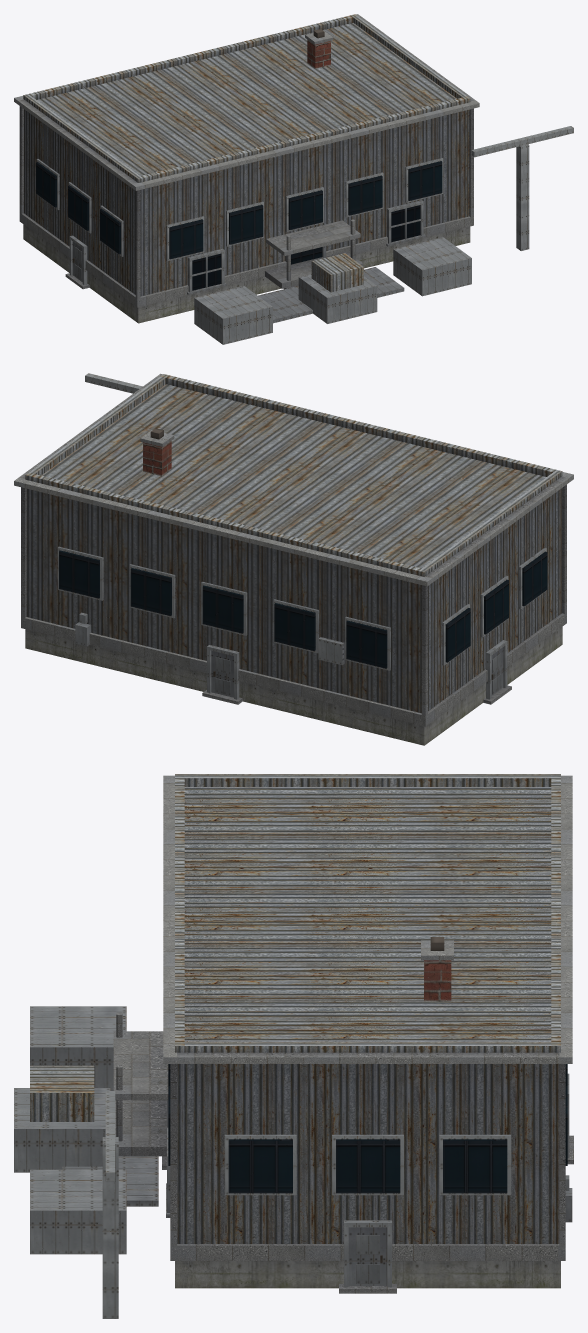
File: ironworks-salvage-office_lod0.gltf
3 views of the same model, one above another, from view 1: azimuth 30°, elevation 25°; view 2: azimuth 150°, elevation 25°; view 3: azimuth 270°, elevation 25° (orthographic). The views are drawn at different scales.
Visible parts, largest first — view 1: ironworks-salvage-office_upper, ironworks-salvage-office__v4_stone_detail, ironworks-salvage-office_fen_07-glass-curtain-blue_1_t, ironworks-salvage-office_fen_14-steel-panel_0, ironworks-salvage-office_base, ironworks-salvage-office__scrap_c, ironworks-salvage-office__scrap_a, ironworks-salvage-office__parapet_back, ironworks-salvage-office__scrap_b, ironworks-salvage-office__parapet_front, ironworks-salvage-office__weighbridge, ironworks-salvage-office__scrap_top (+5 smaller); view 2: ironworks-salvage-office_upper, ironworks-salvage-office__v4_stone_detail, ironworks-salvage-office_fen_07-glass-curtain-blue_1_t, ironworks-salvage-office_base, ironworks-salvage-office_fen_14-steel-panel_0, ironworks-salvage-office__parapet_front, ironworks-salvage-office__parapet_back, ironworks-salvage-office__parapet_right, ironworks-salvage-office__parapet_left, ironworks-salvage-office__v4_brick_detail, ironworks-salvage-office_fen_14-steel-panel_4_t, ironworks-salvage-office__crane_jib; view 3: ironworks-salvage-office_upper, ironworks-salvage-office__v4_stone_detail, ironworks-salvage-office_fen_07-glass-curtain-blue_1_t, ironworks-salvage-office_base, ironworks-salvage-office__scrap_c, ironworks-salvage-office_fen_14-steel-panel_0, ironworks-salvage-office__scrap_a, ironworks-salvage-office__scrap_b, ironworks-salvage-office__parapet_left, ironworks-salvage-office__parapet_right, ironworks-salvage-office__scrap_top, ironworks-salvage-office__parapet_front (+7 smaller).
Part boxes in pixels (box(x1,y1,x2,y2)): ironworks-salvage-office_upper: box(24, 23, 469, 296); ironworks-salvage-office__v4_stone_detail: box(14, 14, 479, 307); ironworks-salvage-office_fen_07-glass-curtain-blue_1_t: box(36, 161, 442, 290); ironworks-salvage-office_fen_14-steel-panel_0: box(36, 158, 443, 294); ironworks-salvage-office_base: box(23, 224, 470, 323); ironworks-salvage-office__scrap_c: box(393, 237, 471, 296); ironworks-salvage-office__scrap_a: box(194, 286, 272, 344); ironworks-salvage-office__parapet_back: box(23, 14, 357, 100); ironworks-salvage-office__scrap_b: box(298, 274, 377, 323); ironworks-salvage-office__parapet_front: box(135, 96, 470, 182); ironworks-salvage-office__weighbridge: box(258, 267, 404, 323); ironworks-salvage-office__scrap_top: box(311, 253, 363, 292); ironworks-salvage-office_upper: box(26, 384, 561, 713); ironworks-salvage-office__v4_stone_detail: box(14, 373, 573, 726); ironworks-salvage-office_fen_07-glass-curtain-blue_1_t: box(59, 550, 547, 668); ironworks-salvage-office_base: box(25, 626, 562, 745); ironworks-salvage-office_fen_14-steel-panel_0: box(57, 546, 546, 699); ironworks-salvage-office__parapet_front: box(160, 374, 562, 477); ironworks-salvage-office__parapet_back: box(25, 472, 427, 576); ironworks-salvage-office__parapet_right: box(29, 376, 165, 475); ironworks-salvage-office__parapet_left: box(422, 472, 559, 573); ironworks-salvage-office__v4_brick_detail: box(143, 441, 171, 476); ironworks-salvage-office_fen_14-steel-panel_4_t: box(215, 653, 501, 695); ironworks-salvage-office__crane_jib: box(85, 373, 142, 393); ironworks-salvage-office_upper: box(177, 787, 559, 1243); ironworks-salvage-office__v4_stone_detail: box(113, 775, 572, 1260); ironworks-salvage-office_fen_07-glass-curtain-blue_1_t: box(168, 1064, 567, 1193); ironworks-salvage-office_base: box(175, 1261, 560, 1288); ironworks-salvage-office__scrap_c: box(30, 1169, 126, 1254); ironworks-salvage-office_fen_14-steel-panel_0: box(166, 1073, 572, 1287); ironworks-salvage-office__scrap_a: box(30, 1006, 126, 1090); ironworks-salvage-office__scrap_b: box(14, 1088, 110, 1172); ironworks-salvage-office__parapet_left: box(184, 774, 551, 786); ironworks-salvage-office__parapet_right: box(184, 1042, 551, 1052); ironworks-salvage-office__scrap_top: box(30, 1065, 94, 1121); ironworks-salvage-office__parapet_front: box(175, 774, 184, 1052).
Size of the model in its own units: 25.4 by 9.89 by 17.4.
